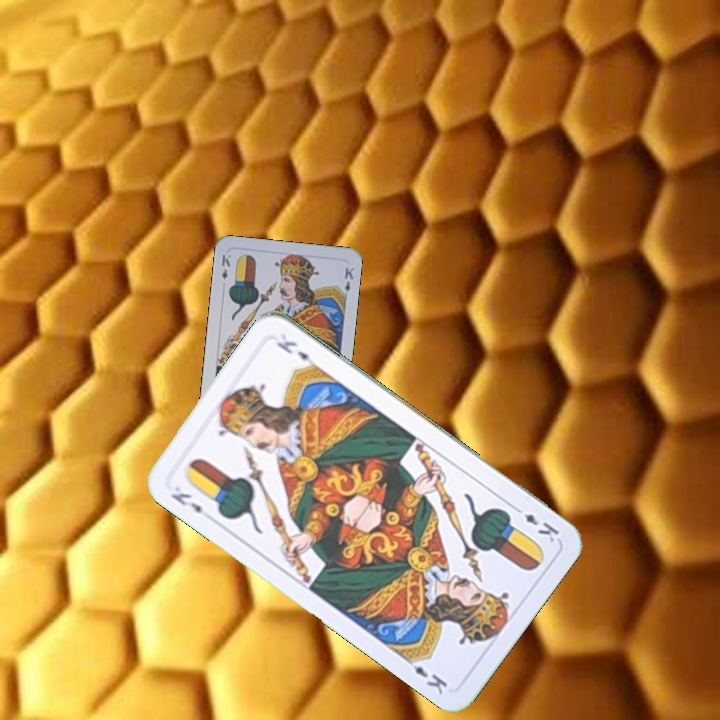EK: (508, 501, 562, 546), (166, 482, 205, 516), (217, 250, 233, 282)
